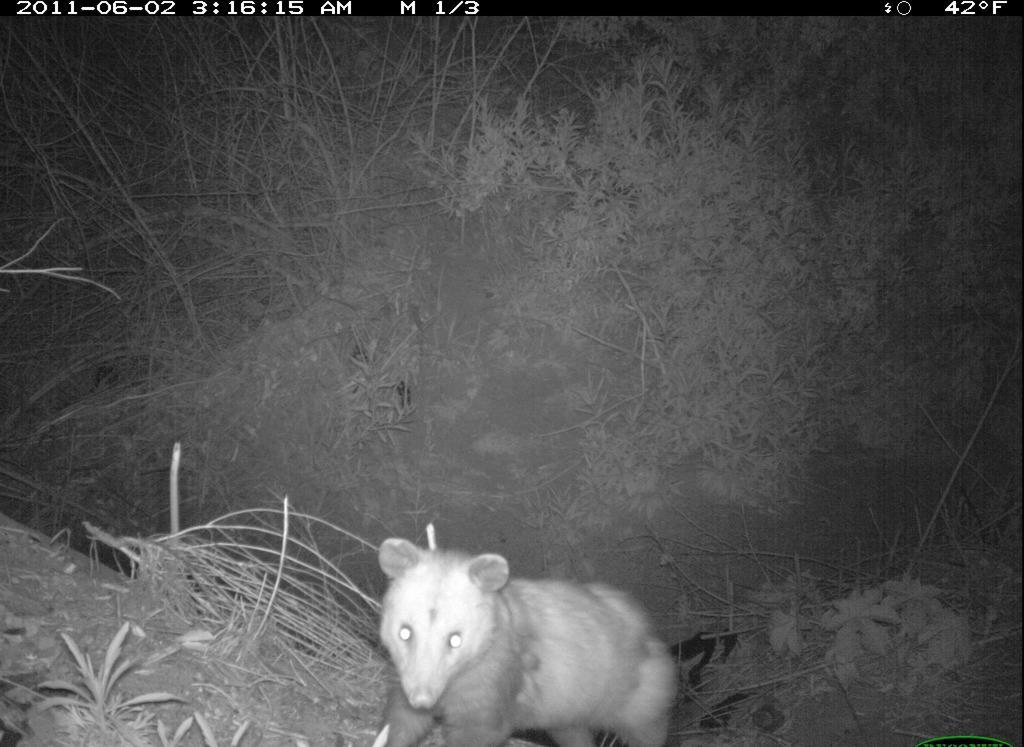opossum: (338, 520, 710, 747)
